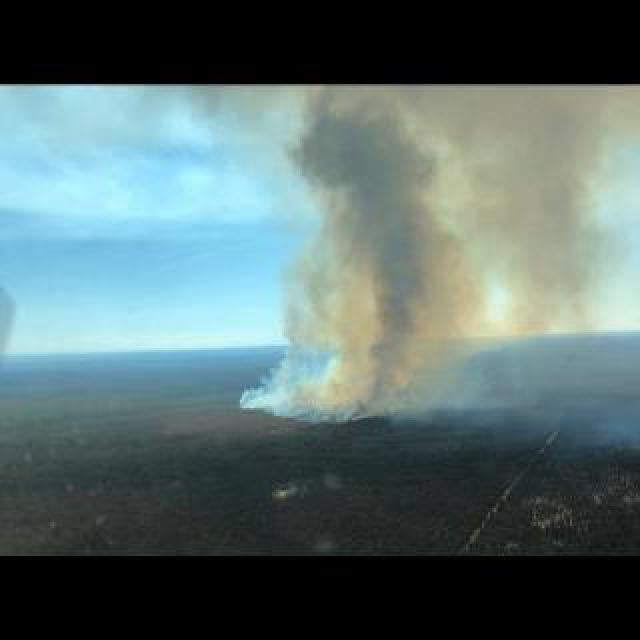Smoke: (234, 86, 630, 434)
